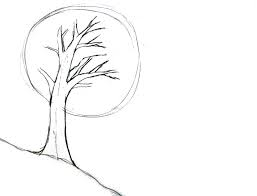tree: (15, 2, 144, 173)
